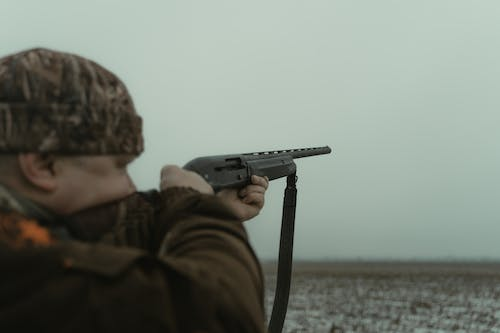gun: (66, 144, 333, 250)
